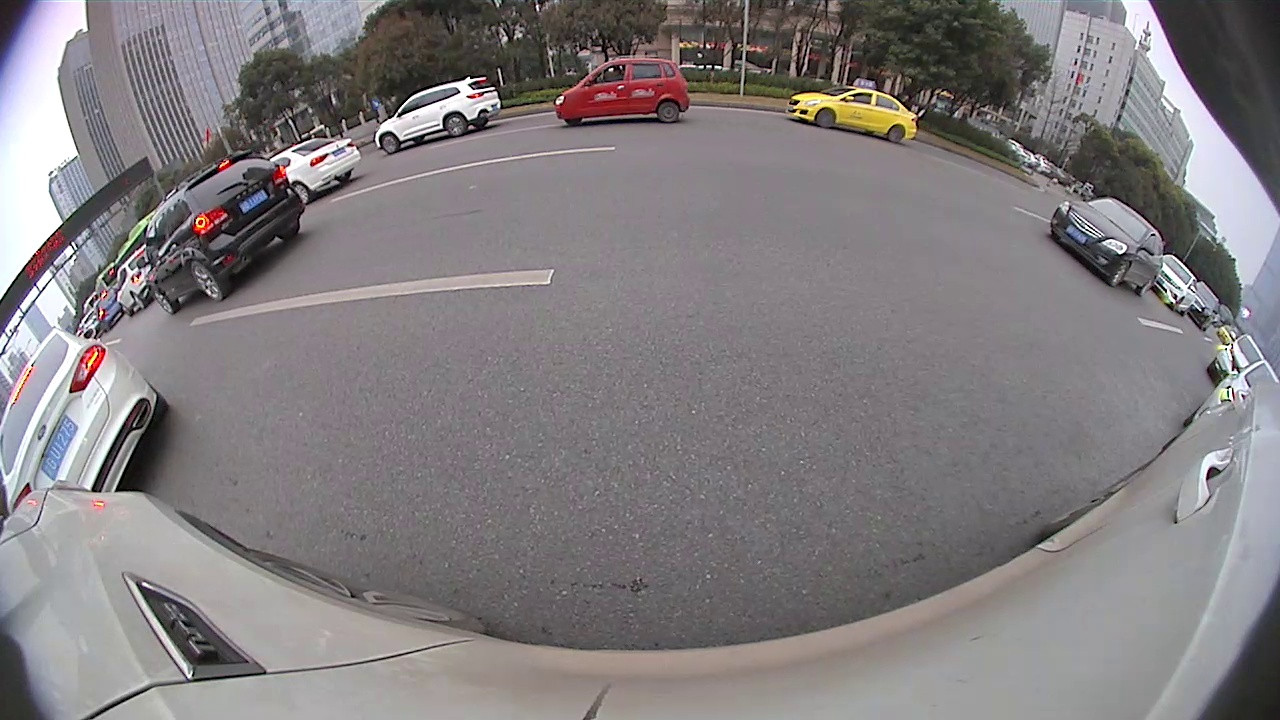car: (1, 324, 170, 512), (141, 147, 304, 317), (1046, 193, 1166, 294), (374, 73, 505, 158), (553, 54, 693, 129), (781, 84, 919, 147), (272, 133, 364, 204)
front: (153, 288, 175, 316), (1109, 259, 1131, 287), (813, 108, 836, 130), (380, 134, 398, 156)
rear: (190, 261, 225, 304), (656, 100, 681, 124), (444, 113, 467, 138), (886, 125, 905, 143)
